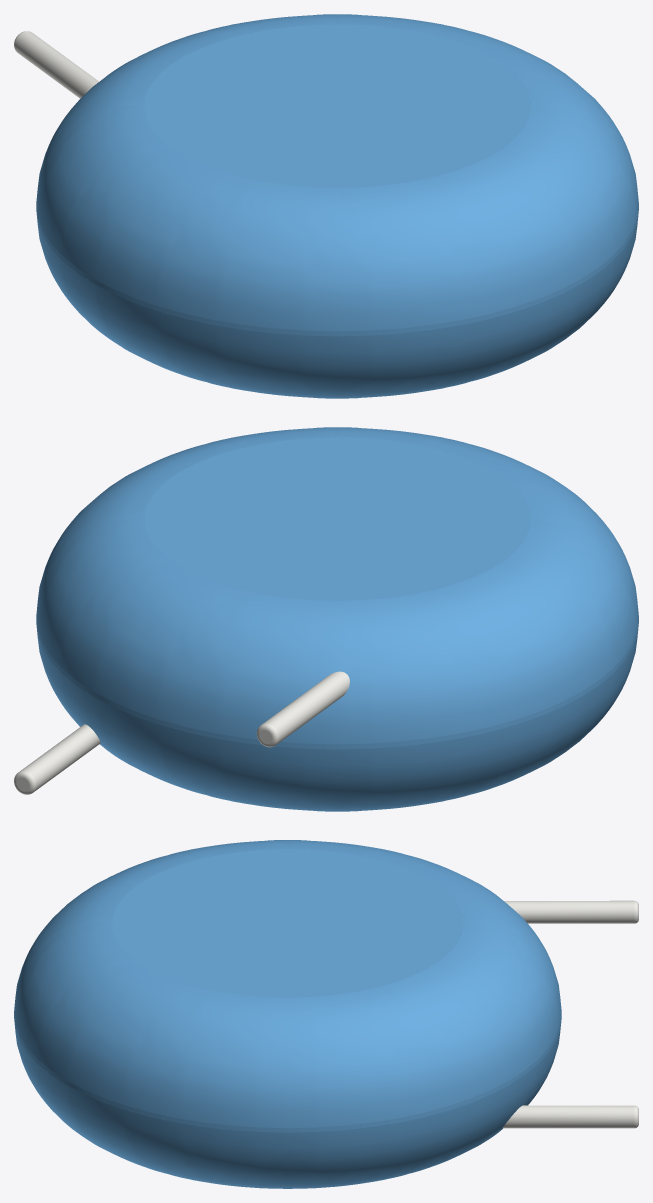
Rendered from RV_Disc_D21.5mm_W7.9mm_P10mm.glb.
3 renders of one model, top to bottom at view 1: azimuth 30°, elevation 25°; view 2: azimuth 150°, elevation 25°; view 3: azimuth 270°, elevation 25°, orthographic. The views are drawn at different scales.
Visible parts, largest first — view 1: Shape_IndexedFaceSet.001, Shape_IndexedFaceSet.003, Shape_IndexedFaceSet.002, Shape_IndexedFaceSet, Shape_IndexedFaceSet.004; view 2: Shape_IndexedFaceSet.001, Shape_IndexedFaceSet.003, Shape_IndexedFaceSet.002, Shape_IndexedFaceSet, Shape_IndexedFaceSet.004, Shape_IndexedFaceSet.006; view 3: Shape_IndexedFaceSet.001, Shape_IndexedFaceSet.003, Shape_IndexedFaceSet.002, Shape_IndexedFaceSet.006, Shape_IndexedFaceSet, Shape_IndexedFaceSet.004.
Boxes of the visible parts, x1=… form: Shape_IndexedFaceSet.001: x1=36, y1=14, x2=638, y2=331; Shape_IndexedFaceSet.003: x1=144, y1=24, x2=530, y2=187; Shape_IndexedFaceSet.002: x1=36, y1=211, x2=638, y2=398; Shape_IndexedFaceSet: x1=36, y1=205, x2=638, y2=336; Shape_IndexedFaceSet.004: x1=14, y1=31, x2=98, y2=98; Shape_IndexedFaceSet.001: x1=36, y1=427, x2=638, y2=744; Shape_IndexedFaceSet.003: x1=144, y1=437, x2=530, y2=600; Shape_IndexedFaceSet.002: x1=36, y1=624, x2=638, y2=811; Shape_IndexedFaceSet: x1=36, y1=618, x2=638, y2=749; Shape_IndexedFaceSet.004: x1=263, y1=671, x2=349, y2=743; Shape_IndexedFaceSet.006: x1=20, y1=724, x2=100, y2=791; Shape_IndexedFaceSet.001: x1=14, y1=840, x2=561, y2=1127; Shape_IndexedFaceSet.003: x1=112, y1=849, x2=463, y2=997; Shape_IndexedFaceSet.002: x1=14, y1=1019, x2=561, y2=1188; Shape_IndexedFaceSet.006: x1=503, y1=1105, x2=634, y2=1128; Shape_IndexedFaceSet: x1=14, y1=1014, x2=561, y2=1132; Shape_IndexedFaceSet.004: x1=504, y1=900, x2=634, y2=923.
Size of the model in its own units: 8.47 by 3.11 by 9.66.
